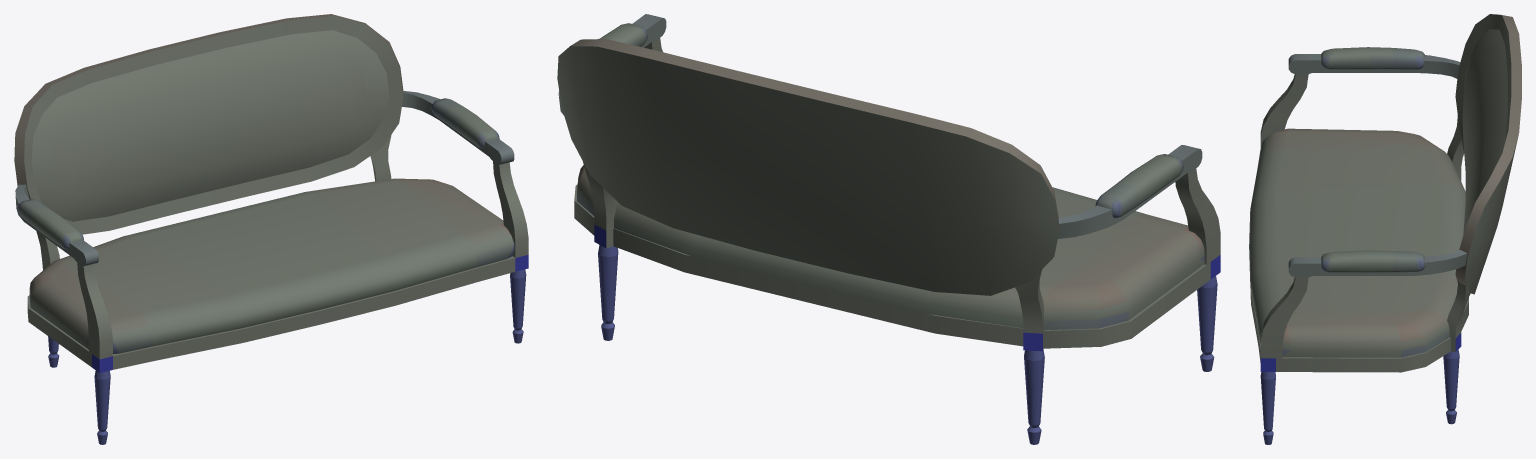
Rendered from gustavian_sofa.fbx.
3 views of the same model, side by side, from view 1: azimuth 30°, elevation 25°; view 2: azimuth 150°, elevation 25°; view 3: azimuth 270°, elevation 25° (orthographic). The views are drawn at different scales.
Parts seen in each view (by area): view 1: sohva; view 2: sohva; view 3: sohva.
Part boxes in pixels (left/top/right/bottom): sohva: left=14, top=14, right=528, bottom=444; sohva: left=557, top=14, right=1220, bottom=444; sohva: left=1249, top=14, right=1521, bottom=444.
Size of the model in its own units: 175 by 101 by 94.92.
